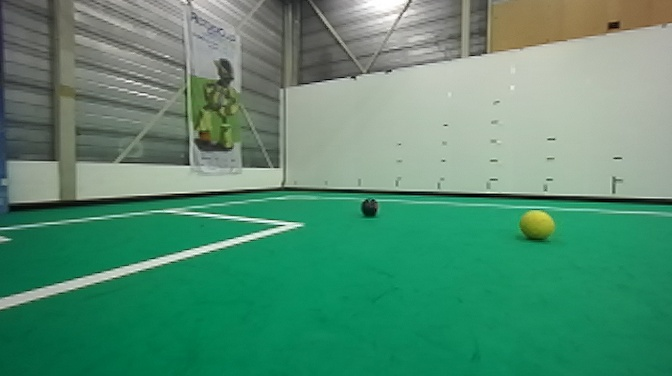ball: (518, 206, 557, 246), (354, 193, 385, 223)
